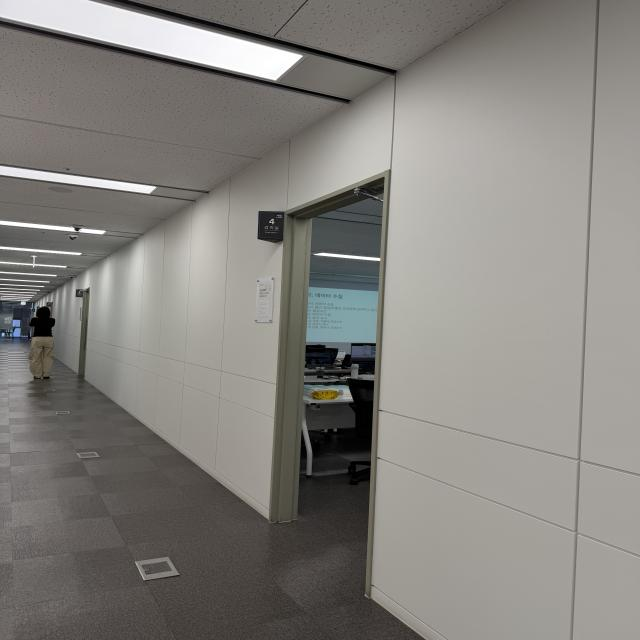room4: (258, 211, 285, 242)
